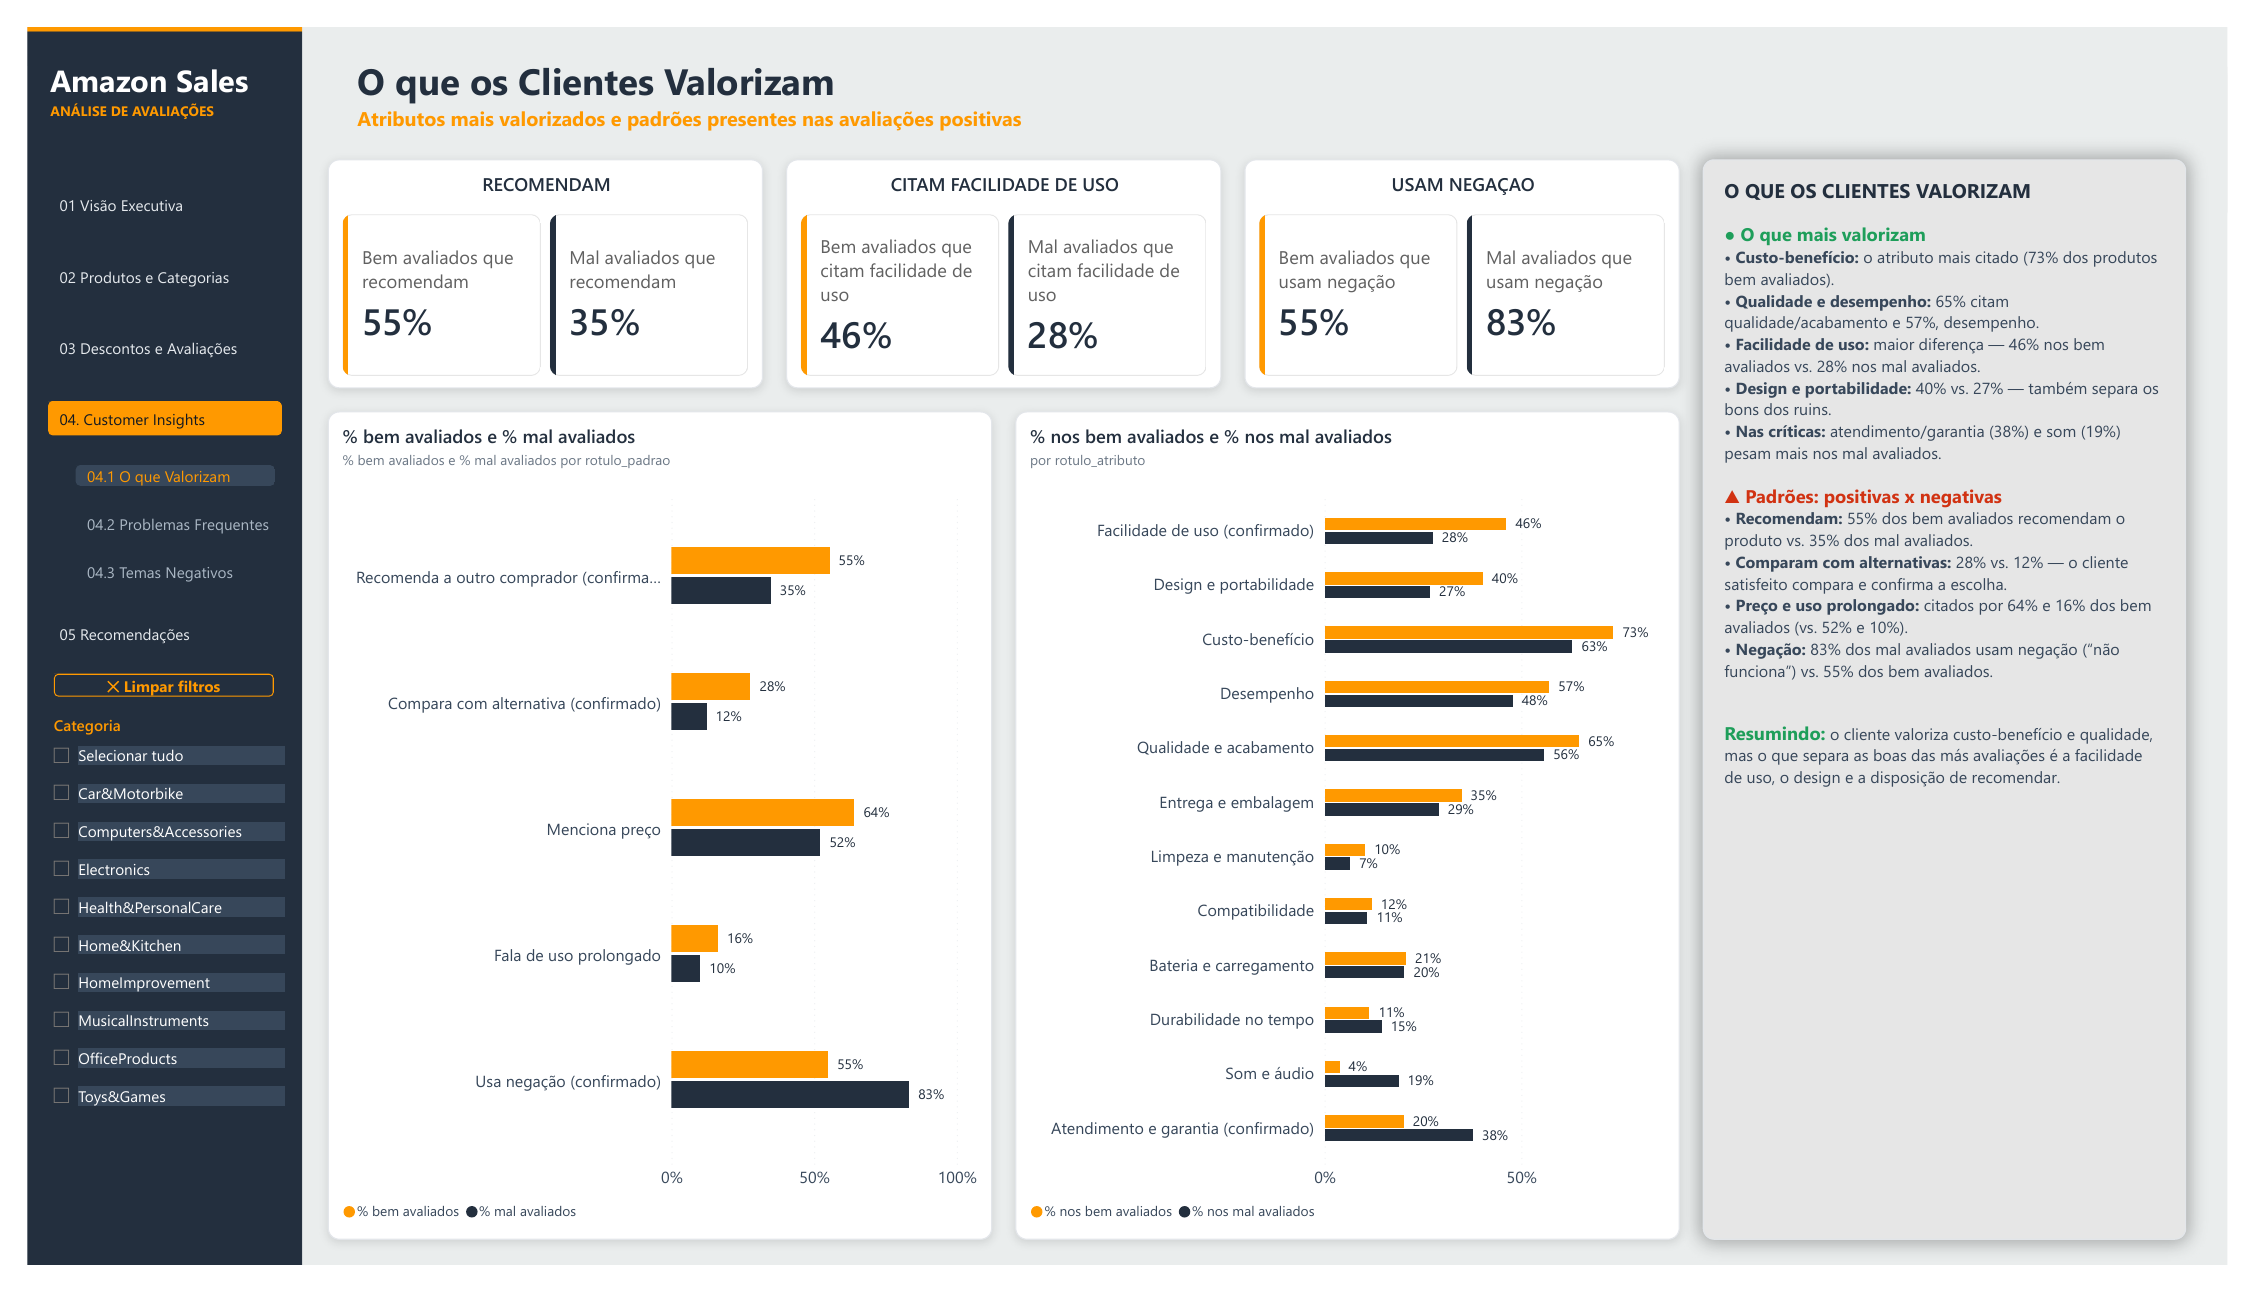

What the dashboard file says about the page in this screenshot:
{"tool":"powerbi","page":{"name":"04.1 O que os clientes valorizam","canvas":[1920,1080],"ordinal":3},"visuals":[{"type":"cardVisual","title":"RECOMENDAM","fields":{"Data":["Medidas_P1_P3.Bem avaliados que recomendam","Medidas_P1_P3.Mal avaliados que recomendam"]},"box":[262,115,380,200],"z":0},{"type":"textbox","box":[0,0,240,110],"z":1000},{"type":"cardVisual","title":"USAM NEGAÇAO","fields":{"Data":["Medidas_P1_P3.Bem avaliados que usam negação","Medidas_P1_P3.Mal avaliados que usam negação"]},"box":[1062,115,380,200],"z":2000},{"type":"cardVisual","title":"CITAM FACILIDADE DE USO","fields":{"Data":["Medidas_P1_P3.Bem avaliados que citam facilidade de uso","Medidas_P1_P3.Mal avaliados que citam facilidade de uso"]},"box":[662,115,380,200],"z":3000},{"type":"clusteredBarChart","fields":{"Category":["JO_P1_Atributos.rotulo_atributo"],"Y":["Medidas_P1_P3.% nos bem avaliados","Medidas_P1_P3.% nos mal avaliados"]},"box":[862,335,580,723],"z":4000},{"type":"clusteredBarChart","title":"% bem avaliados e % mal avaliados","fields":{"Category":["JO_P3_Padroes.rotulo_padrao"],"Y":["Medidas_P1_P3.% bem avaliados (P3)","Medidas_P1_P3.% mal avaliados (P3)"]},"box":[262,335,580,723],"z":5000},{"type":"actionButton","box":[6,130,228,50],"z":6000},{"type":"actionButton","box":[6,192,228,50],"z":7000},{"type":"actionButton","box":[6,254,228,50],"z":8000},{"type":"actionButton","box":[6,504,228,50],"z":9000},{"type":"actionButton","box":[6,316,228,50],"z":10000},{"type":"actionButton","box":[30,414,198,38],"z":11000},{"type":"actionButton","box":[30,456,198,38],"z":12000},{"type":"actionButton","box":[30,372,198,38],"z":13000},{"type":"slicer","fields":{"Values":["BU_dProdutos.categoria_n1"]},"box":[11.4,600,217.1,351.4],"z":14000},{"type":"actionButton","box":[11.4,554.3,216,40],"z":15000},{"type":"textbox","box":[276,14,1600,92],"z":16000},{"type":"textbox","box":[1462,115,422,943],"z":17000}]}

Visuals, with their boxes on the page's 1920x1080 design canvas (x1, y1, x2, y2). These are canvas units, not pixel positions in the 2255x1293 screenshot, which may show the page scaled, cropped or inside an application window:
"RECOMENDAM" cardVisual: 262/115/642/315
textbox: 0/0/240/110
"USAM NEGAÇAO" cardVisual: 1062/115/1442/315
"CITAM FACILIDADE DE USO" cardVisual: 662/115/1042/315
clusteredBarChart - JO_P1_Atributos.rotulo_atributo x Medidas_P1_P3.% nos bem avaliados: 862/335/1442/1058
"% bem avaliados e % mal avaliados" clusteredBarChart: 262/335/842/1058
actionButton: 6/130/234/180
actionButton: 6/192/234/242
actionButton: 6/254/234/304
actionButton: 6/504/234/554
actionButton: 6/316/234/366
actionButton: 30/414/228/452
actionButton: 30/456/228/494
actionButton: 30/372/228/410
slicer - BU_dProdutos.categoria_n1: 11/600/228/951
actionButton: 11/554/227/594
textbox: 276/14/1876/106
textbox: 1462/115/1884/1058
